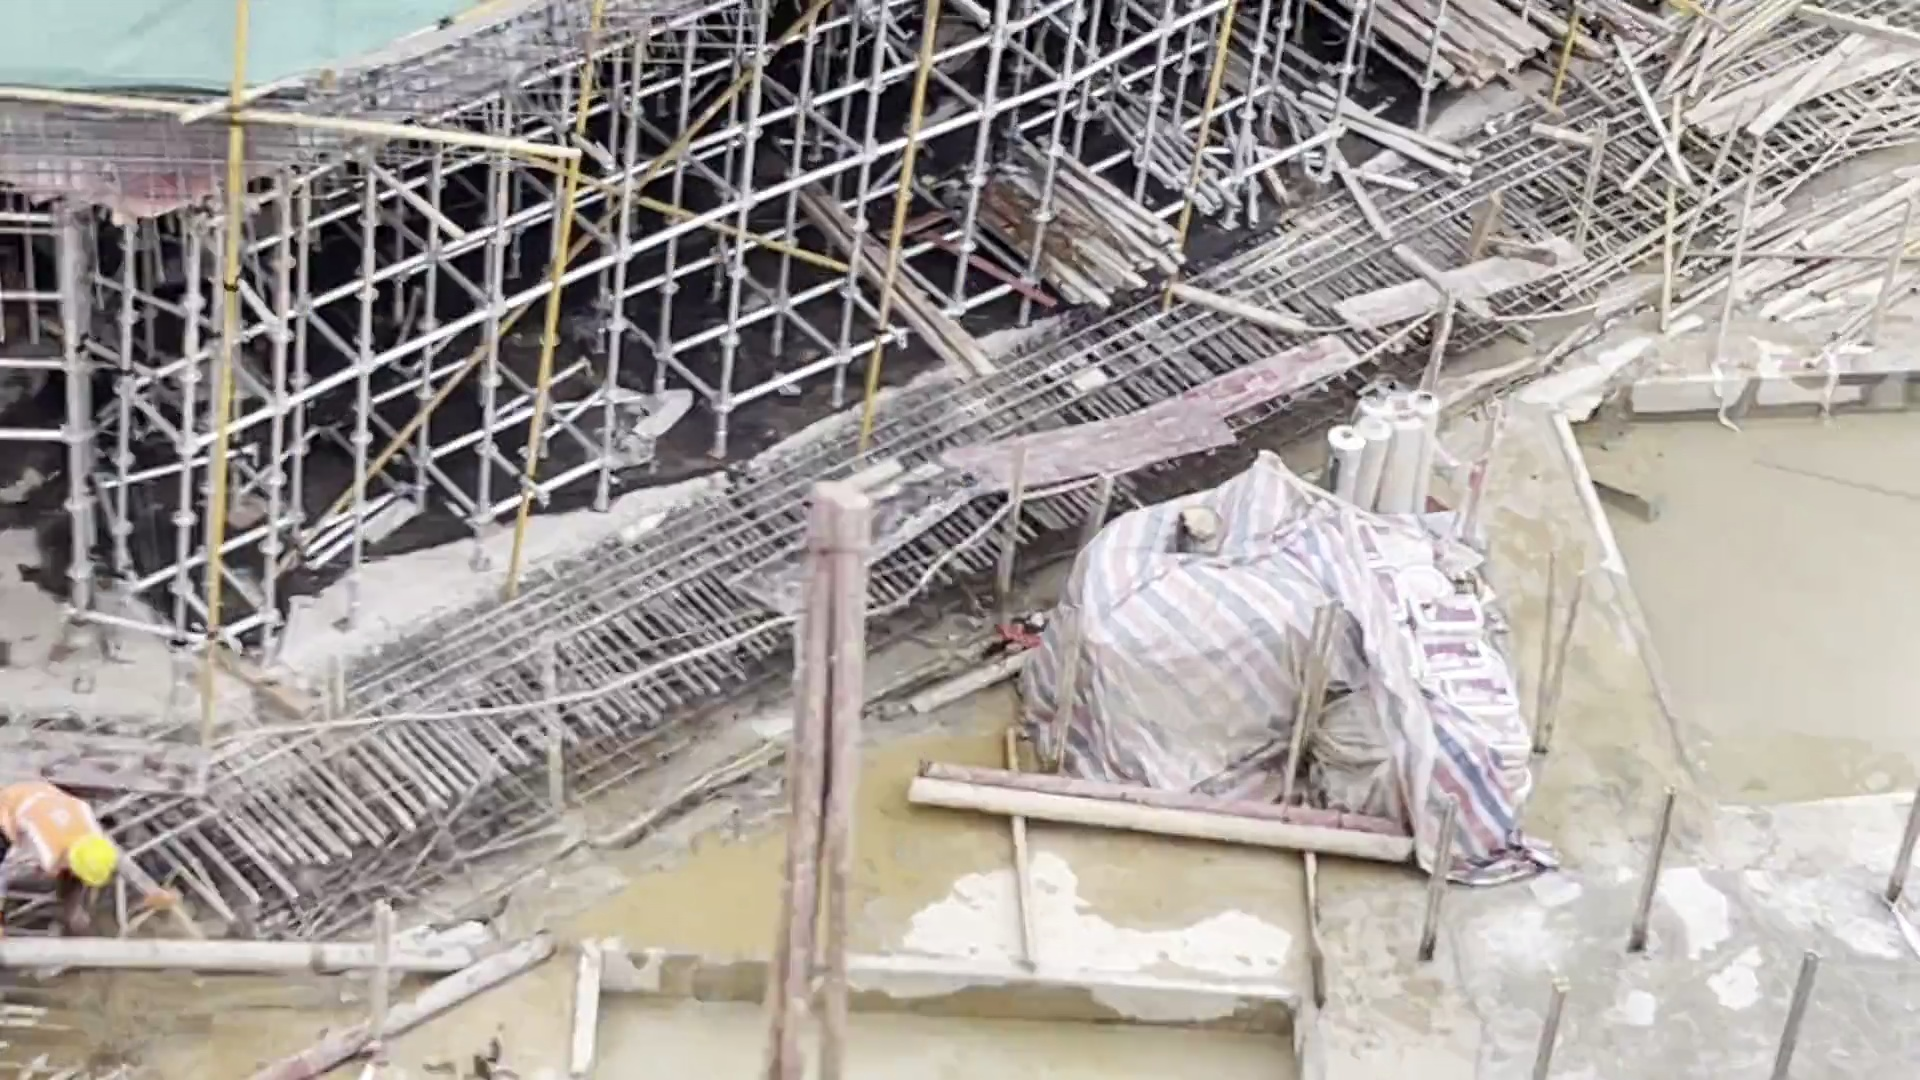helmet: (70, 832, 118, 885)
person: (1, 780, 186, 935)
vest: (3, 779, 97, 860)
wood: (947, 124, 1185, 322), (1343, 1, 1552, 108)
